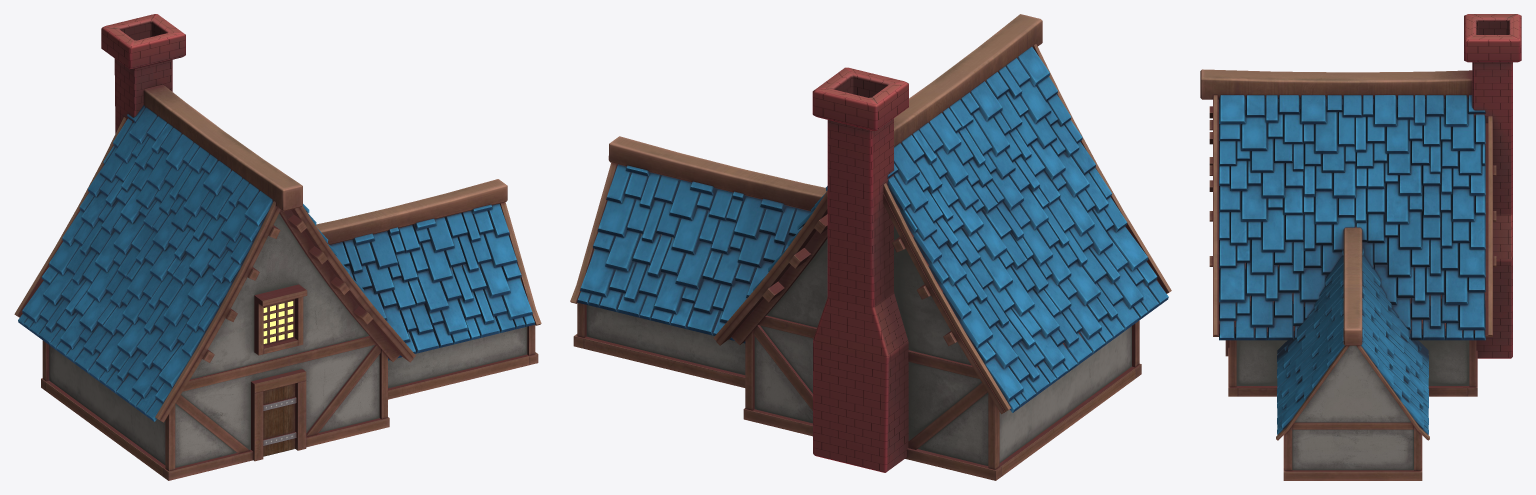
The picture shows the model from 3 angles, left to right: view 1: azimuth 30°, elevation 25°; view 2: azimuth 150°, elevation 25°; view 3: azimuth 270°, elevation 25°; orthographic projection. The views are drawn at different scales.
Visible parts, largest first — view 1: Roof, Wood, Building, Pipe, Door; view 2: Roof, Wood, Pipe, Building; view 3: Roof, Wood, Building, Pipe.
Boxes of the visible parts, box(x1,y1,x2,y2) form: Roof: box(18, 105, 535, 421); Wood: box(14, 84, 541, 480); Building: box(49, 213, 527, 467); Pipe: box(101, 14, 185, 133); Door: box(263, 383, 296, 456); Roof: box(577, 46, 1168, 412); Wood: box(570, 14, 1171, 480); Pipe: box(812, 67, 908, 472); Building: box(586, 226, 1131, 465); Roof: box(1219, 95, 1485, 434); Wood: box(1200, 69, 1496, 480); Building: box(1236, 340, 1469, 470); Pipe: box(1464, 14, 1521, 358).
Bounding box in the file's own units: 49.21 × 36.51 × 33.49.
5 materials, 5 textured.
